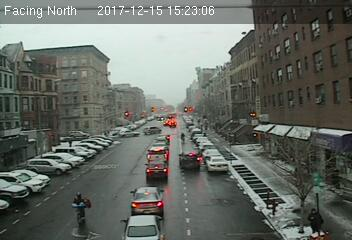bicycle: (71, 192, 92, 229)
car: (121, 214, 164, 240), (129, 188, 164, 212), (143, 160, 168, 180), (205, 155, 229, 172), (178, 151, 201, 168), (145, 146, 169, 160)
